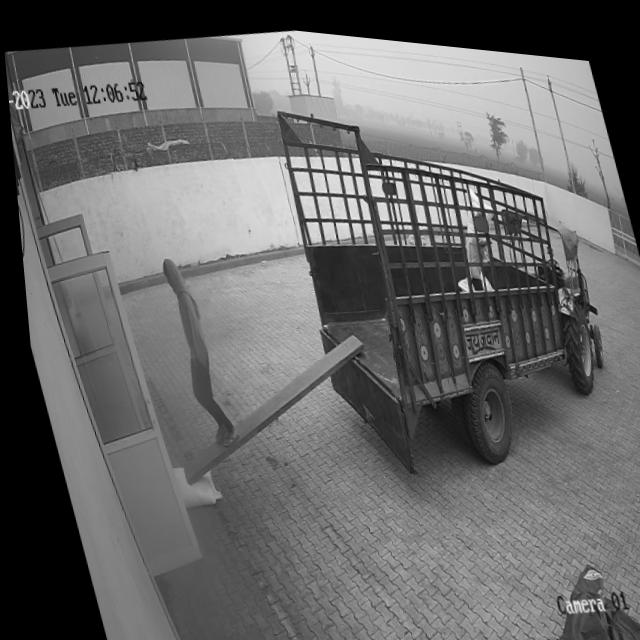sack: (163, 456, 215, 506)
